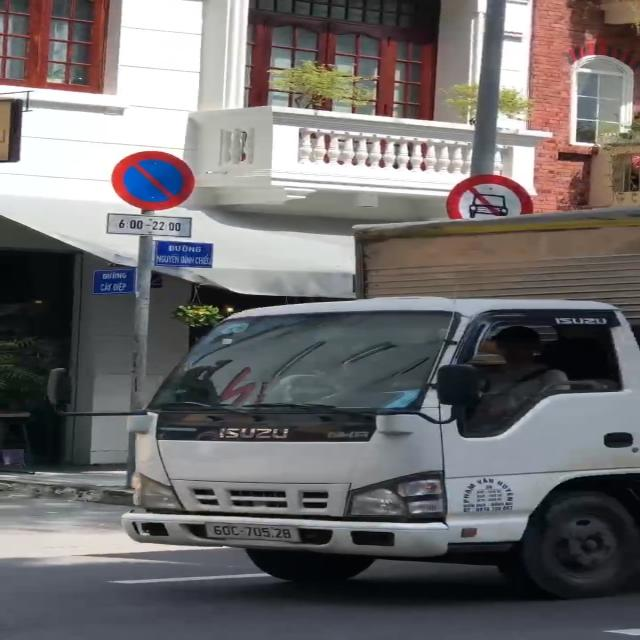Bien bao cam do xe: (110, 146, 198, 212)
Bien bao cam xe oto: (442, 169, 540, 225)
